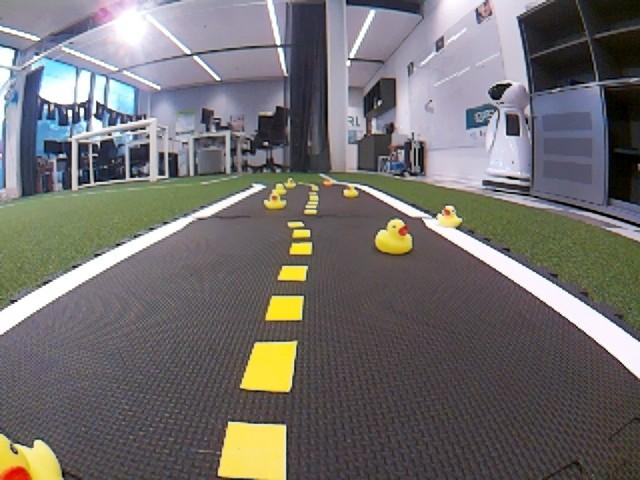Duckies: (0, 428, 80, 480), (375, 216, 413, 256), (437, 205, 461, 227), (264, 189, 291, 208), (342, 185, 357, 197), (320, 175, 335, 184), (281, 181, 296, 188), (288, 178, 298, 188)
